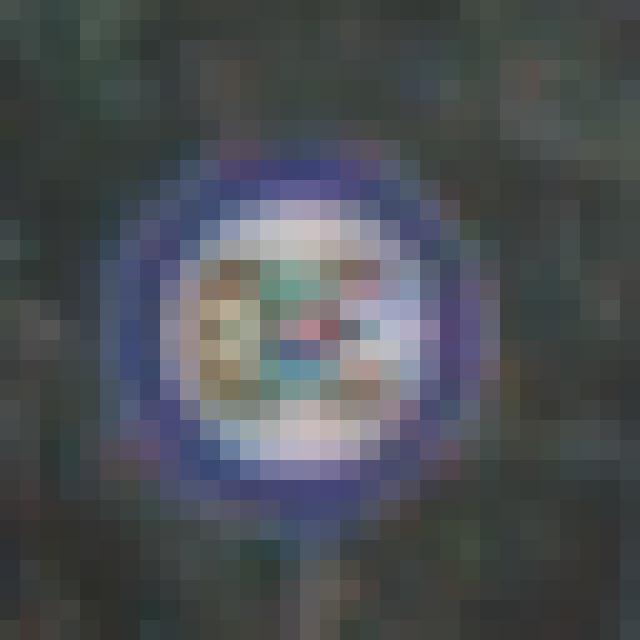SPEED LIMIT 30: (121, 171, 488, 499)
